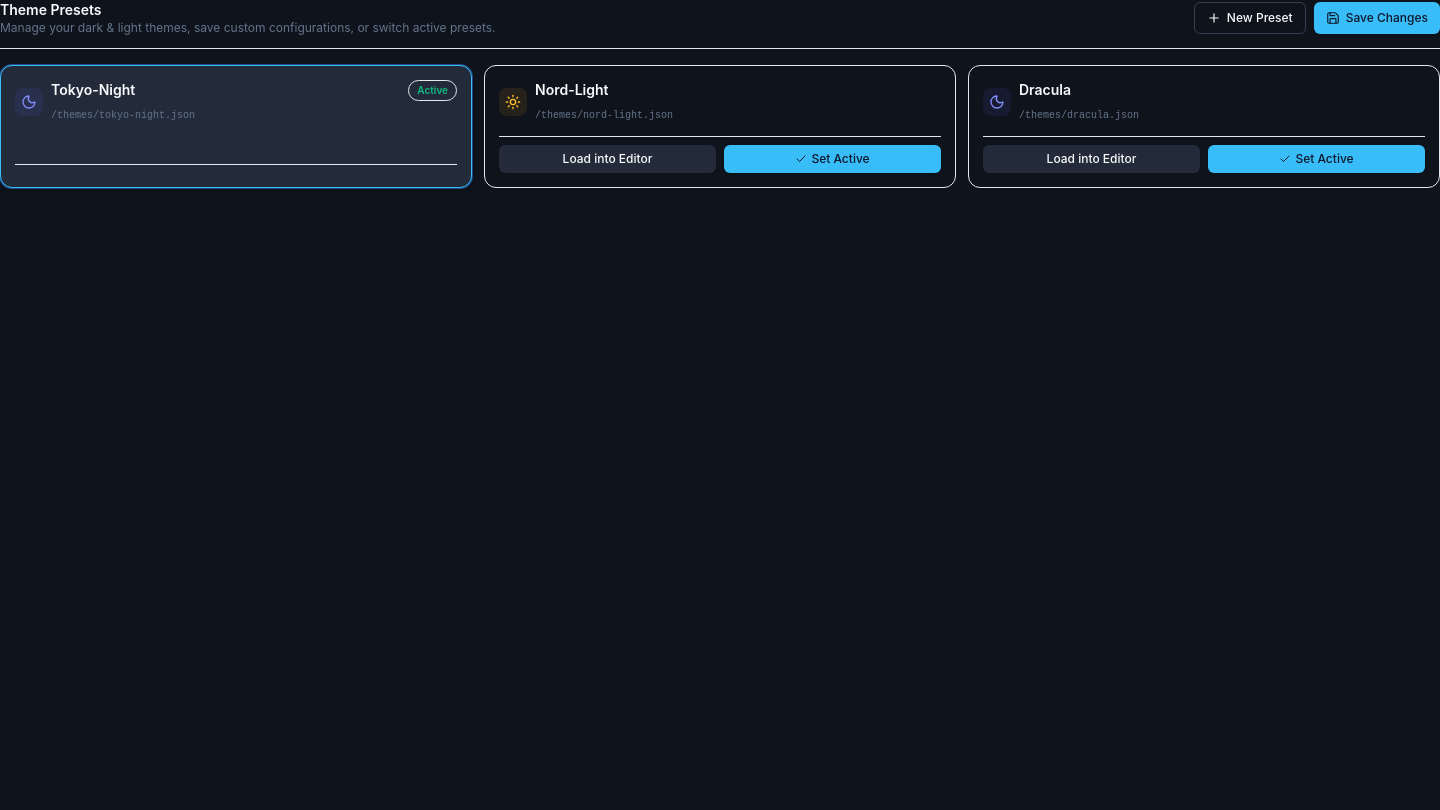
it: PresetManager › closes New Preset dialog on Cancel
This screenshot has width=1440, height=810.
Click the button "New Preset" at {"x": 1250, "y": 18}, box [1194,2,1306,34]
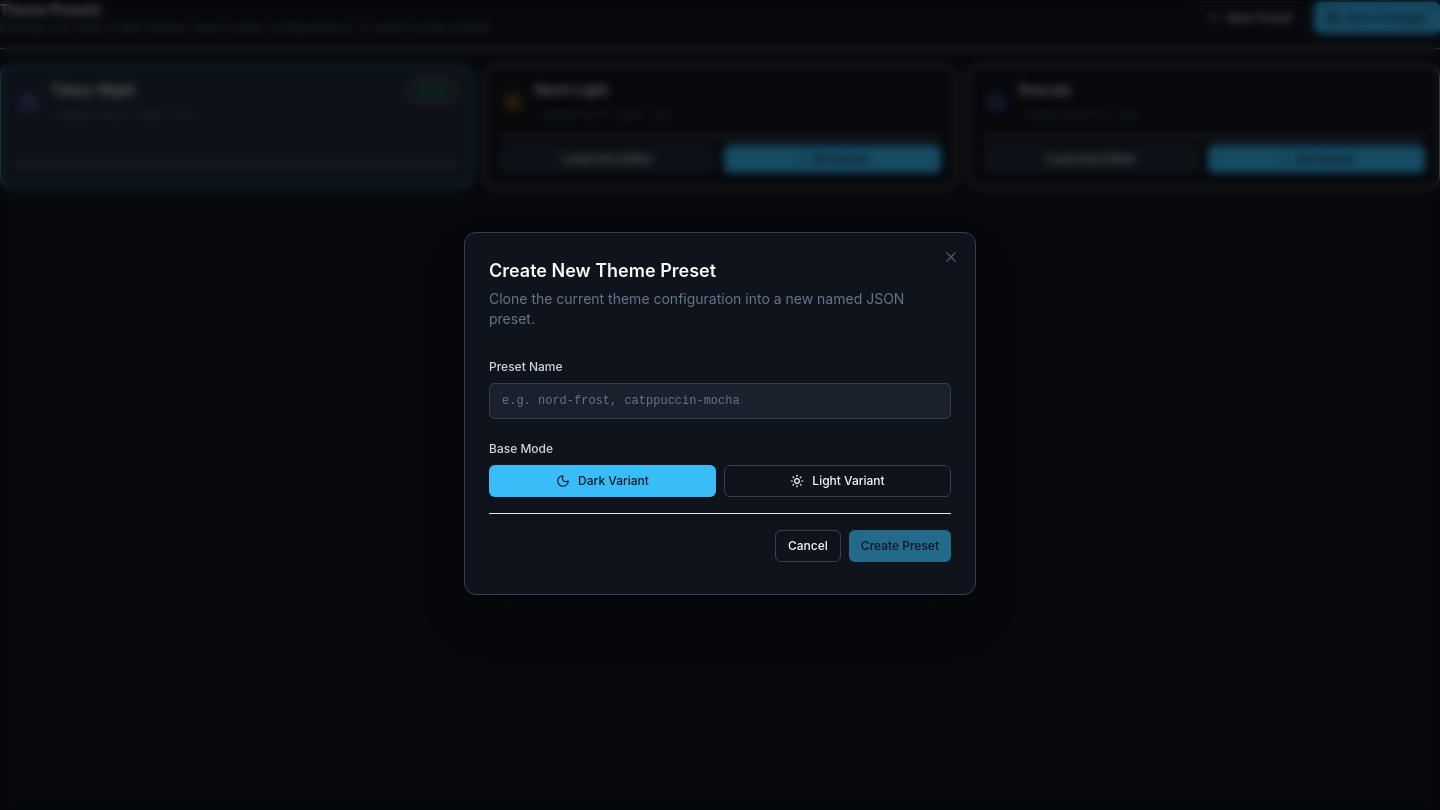
Expected: the heading "Create New Theme Preset" is shown, [489,260,716,280]
Click the button "Cancel" at {"x": 808, "y": 546}, box [775,530,841,562]
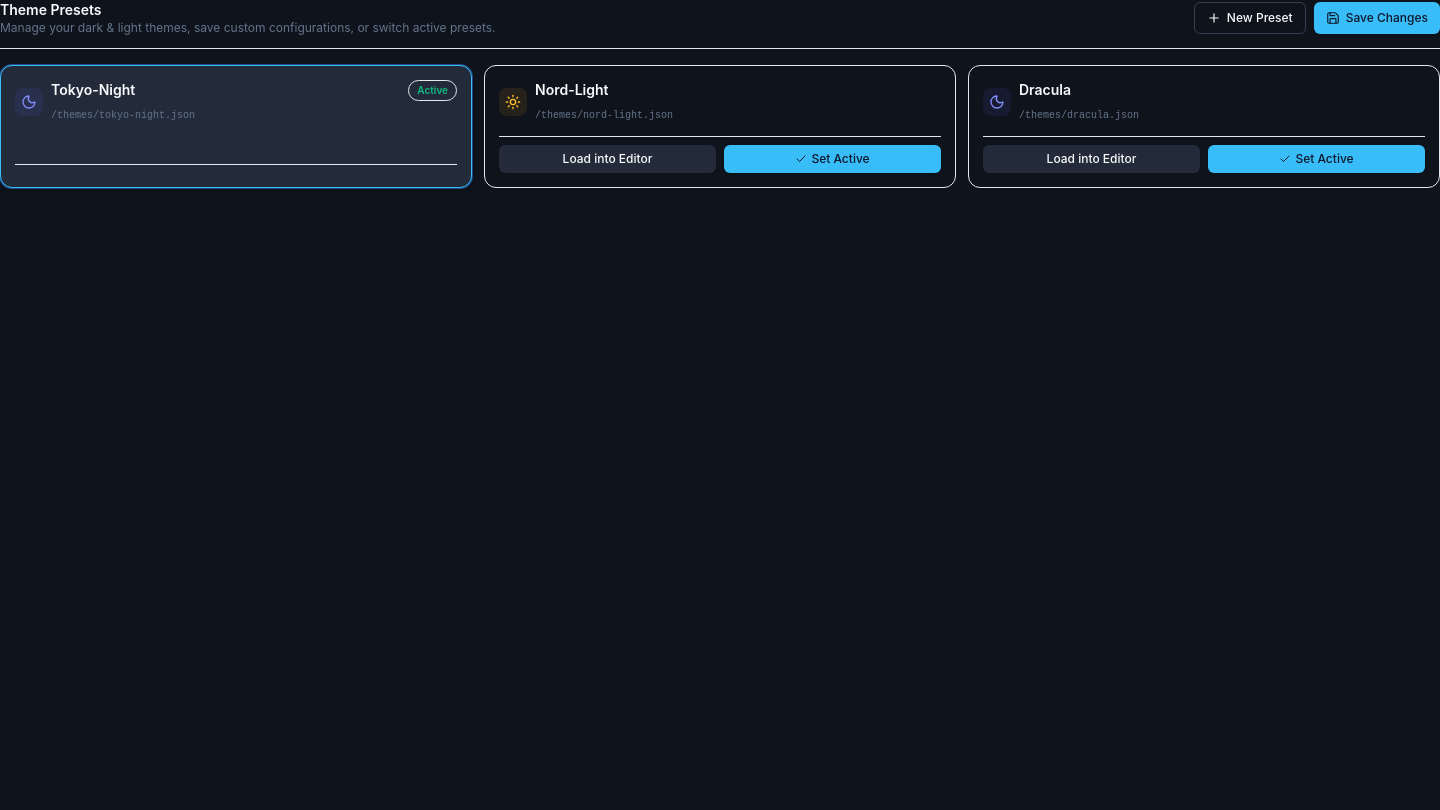
Expected: the heading "Create New Theme Preset" is gone
